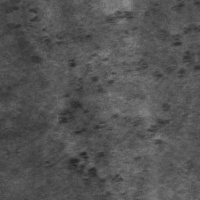rolled-in_scale: (34, 63, 131, 199), (116, 32, 197, 150), (24, 7, 133, 73)
